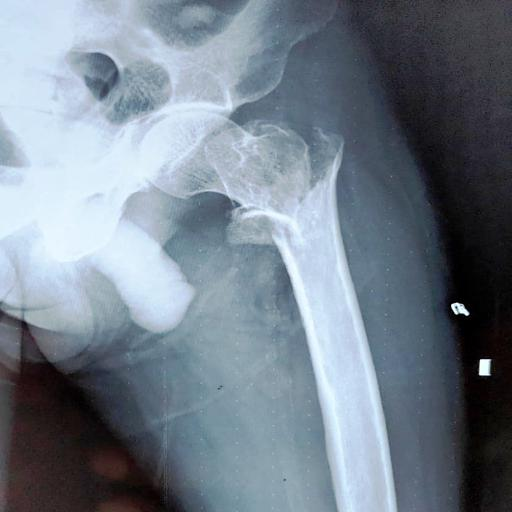intertrochanteric: (139, 112, 312, 245), (271, 127, 350, 280)
lesser-trochanter: (225, 207, 273, 244)
